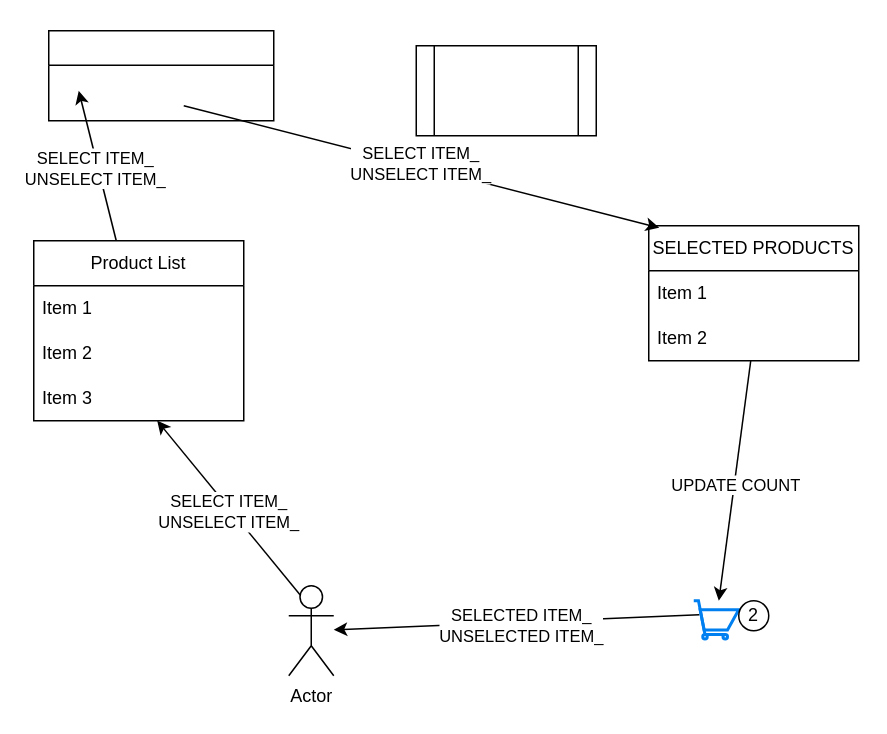
This 887x734 diagram has some shape labels left out. Here are the shapes that lost their labels. From the top down, the centre of each, then its label:
pixel 160 75: DN: PRODUCTLIST MAINTAIN
pixel 505 90: Repository
